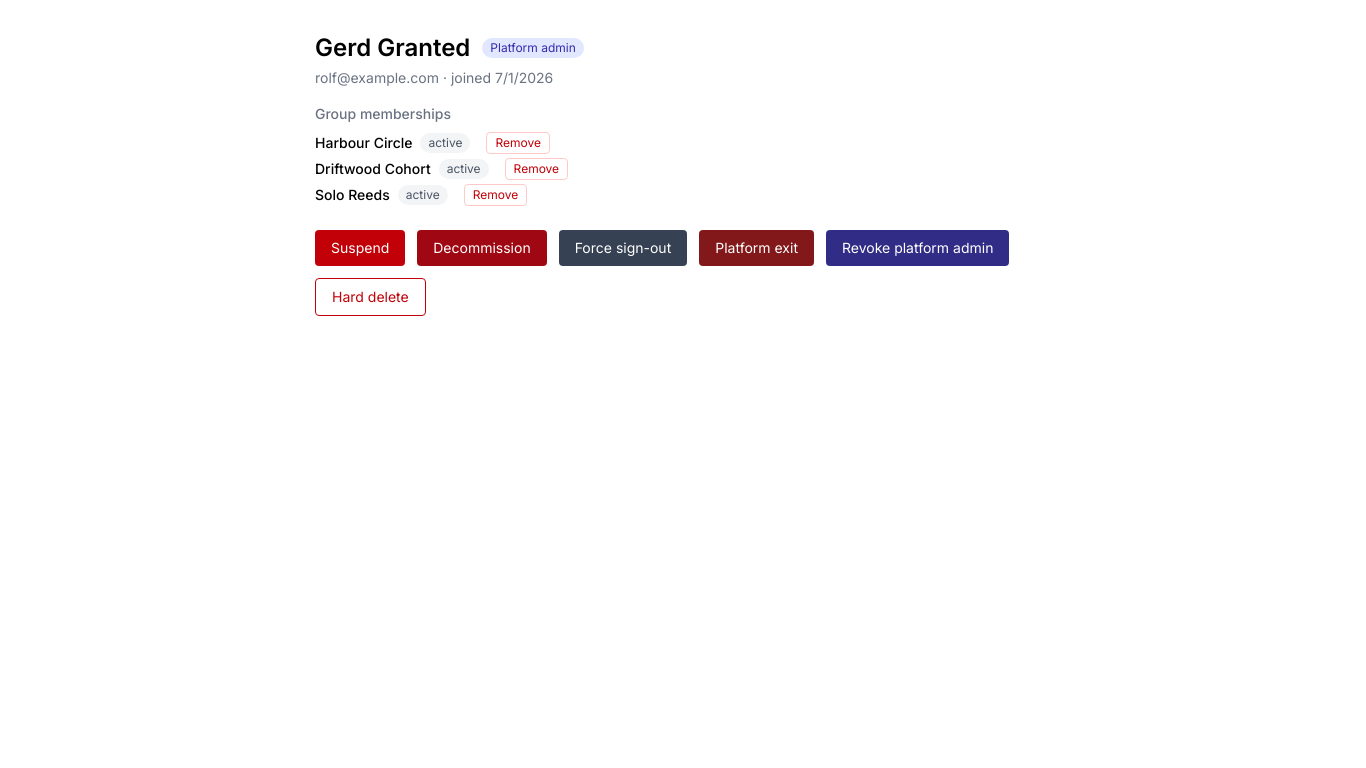
it: AdminMemberDetail (FEAT-H036 STORY-2..6) › STORY-6 the last-admin floor refusal renders verbatim
Expected: the heading "Gerd Granted" is shown, [315, 32, 470, 64]
Click the button with test id "revoke-admin" at (918,248), box [826, 230, 1009, 266]
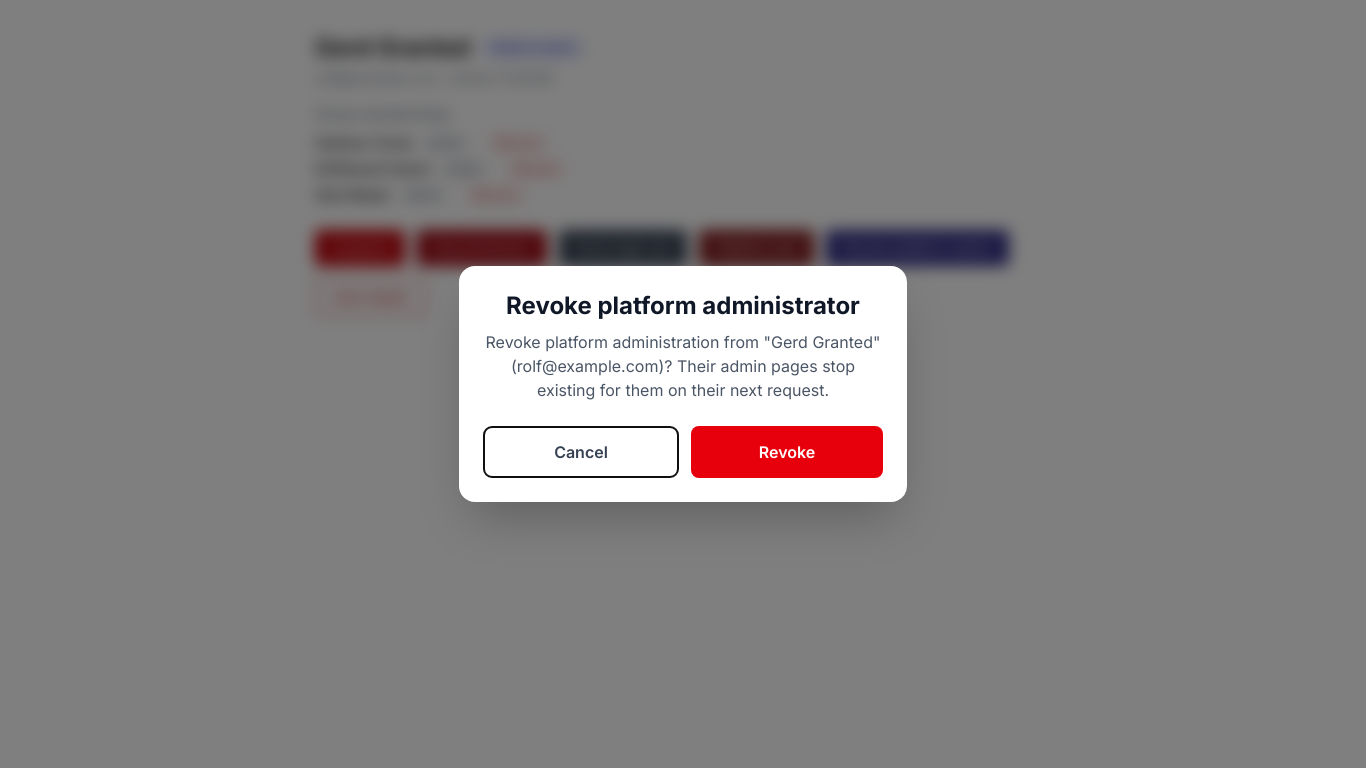
Click the button "Revoke" at (787,452), box [691, 426, 883, 478]
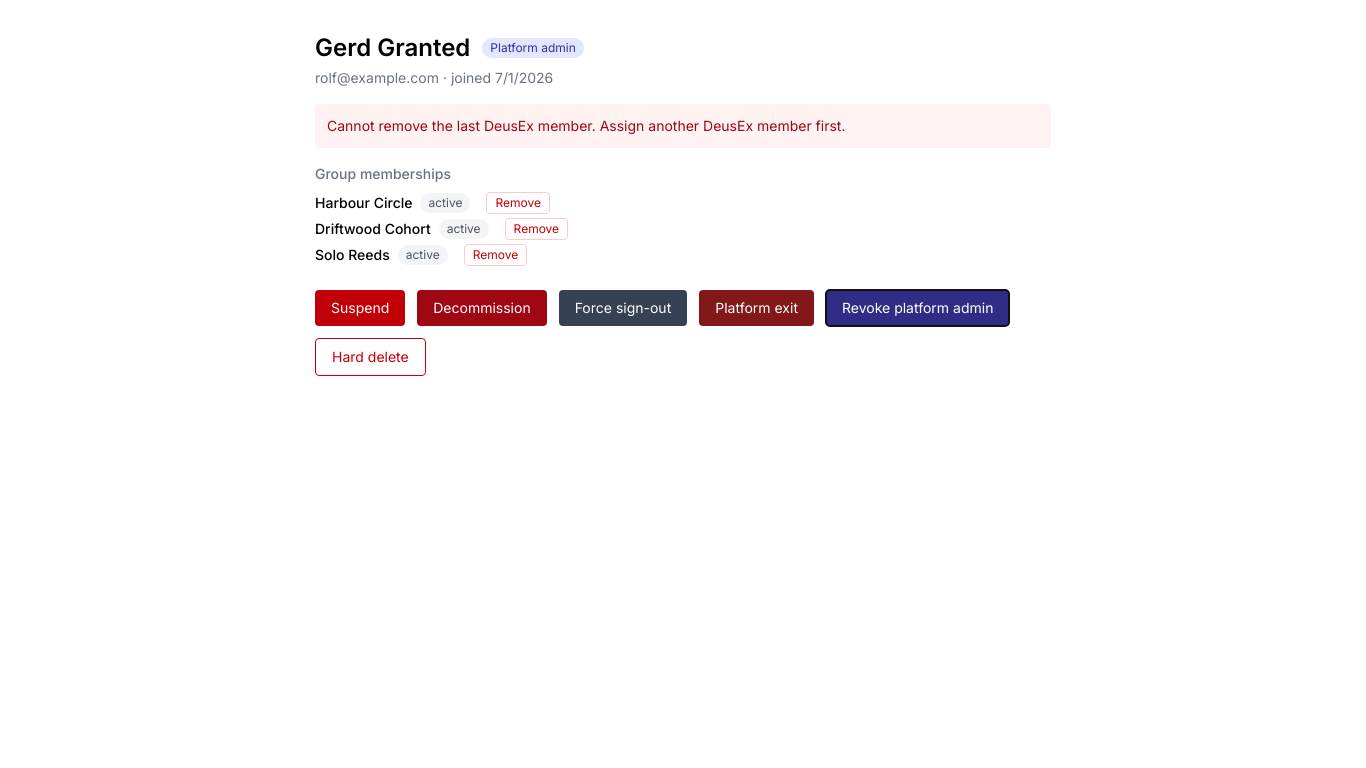
Expected: the message with test id "action-error" reads "Cannot remove the last DeusEx member. Assign another DeusEx member first.", [327, 117, 846, 134]
